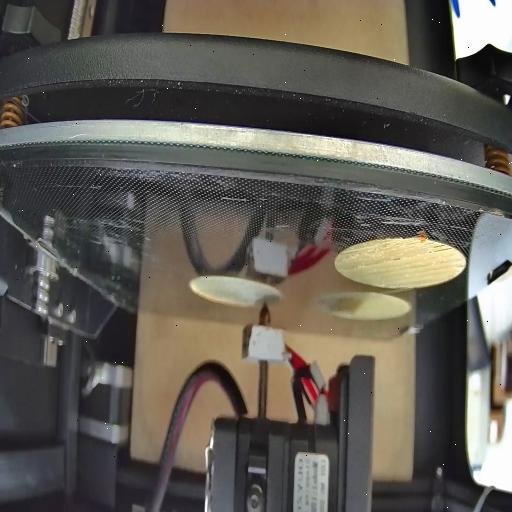under_extrusion: (364, 255, 402, 267), (425, 240, 450, 256), (404, 235, 420, 248), (340, 248, 360, 256)
